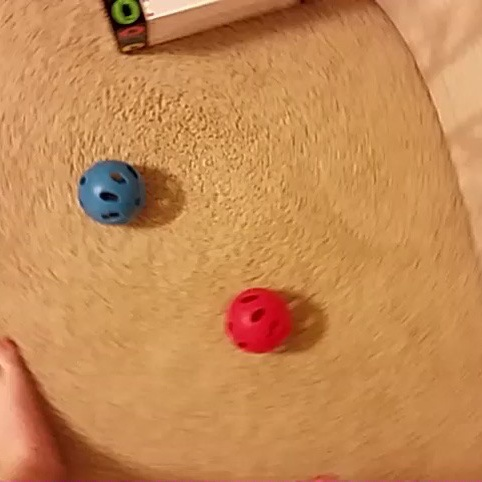blueball: (74, 156, 148, 228)
redball: (220, 283, 297, 357)
